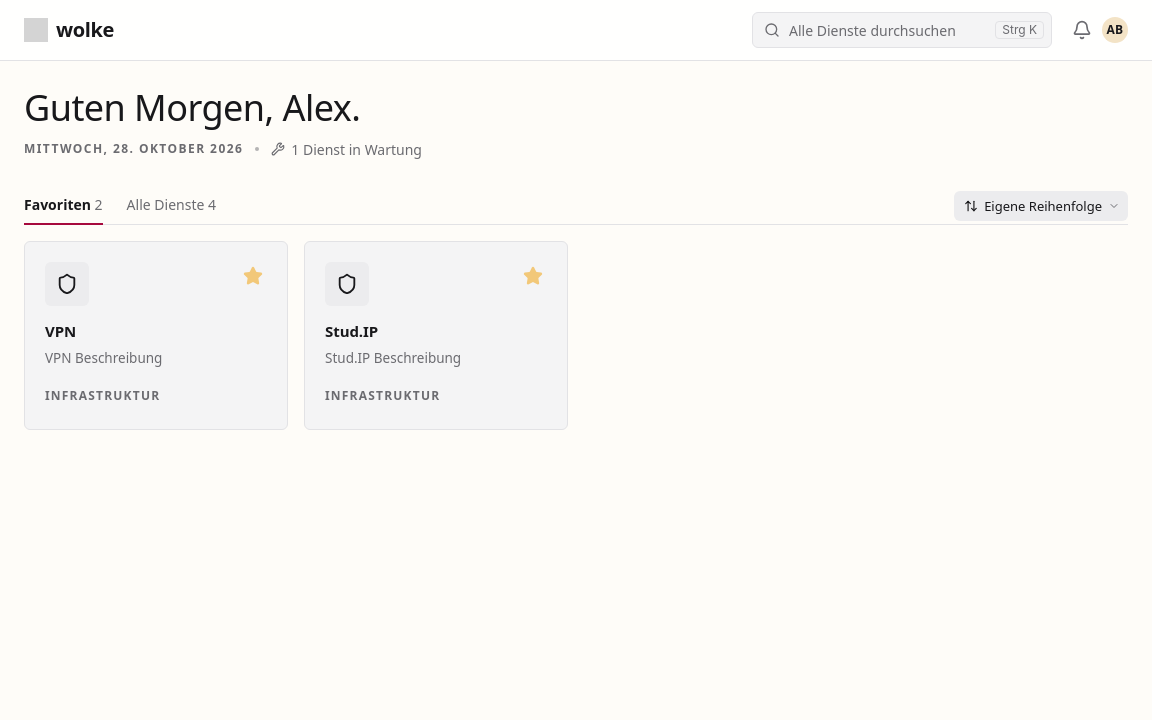
Test: Dashboard launcher tab row (issue #170) › hides the tab row while arranging and brings it back afterwards
Expected: the button "Favoriten 2" is shown, [24,195,103,225]
Click the button with aria-label "Reihenfolge:".
click(1041, 206)  # box [954,191,1128,221]
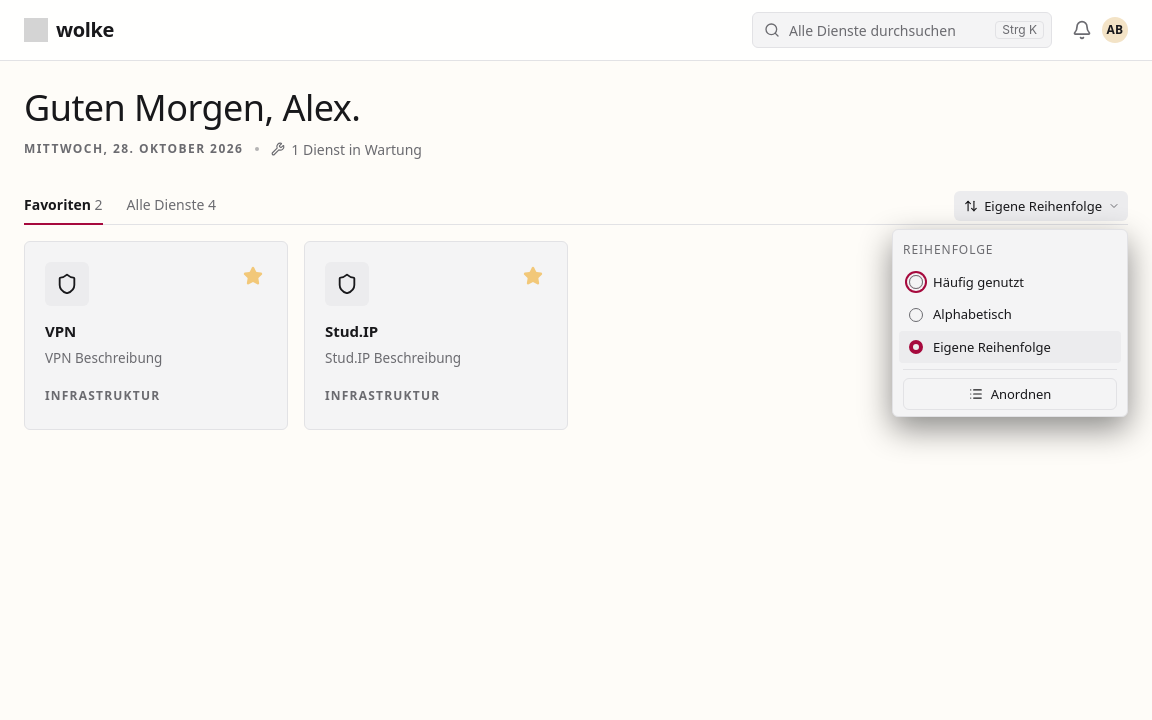
Click the button "Anordnen".
click(1010, 394)  # box [903,378,1117,410]
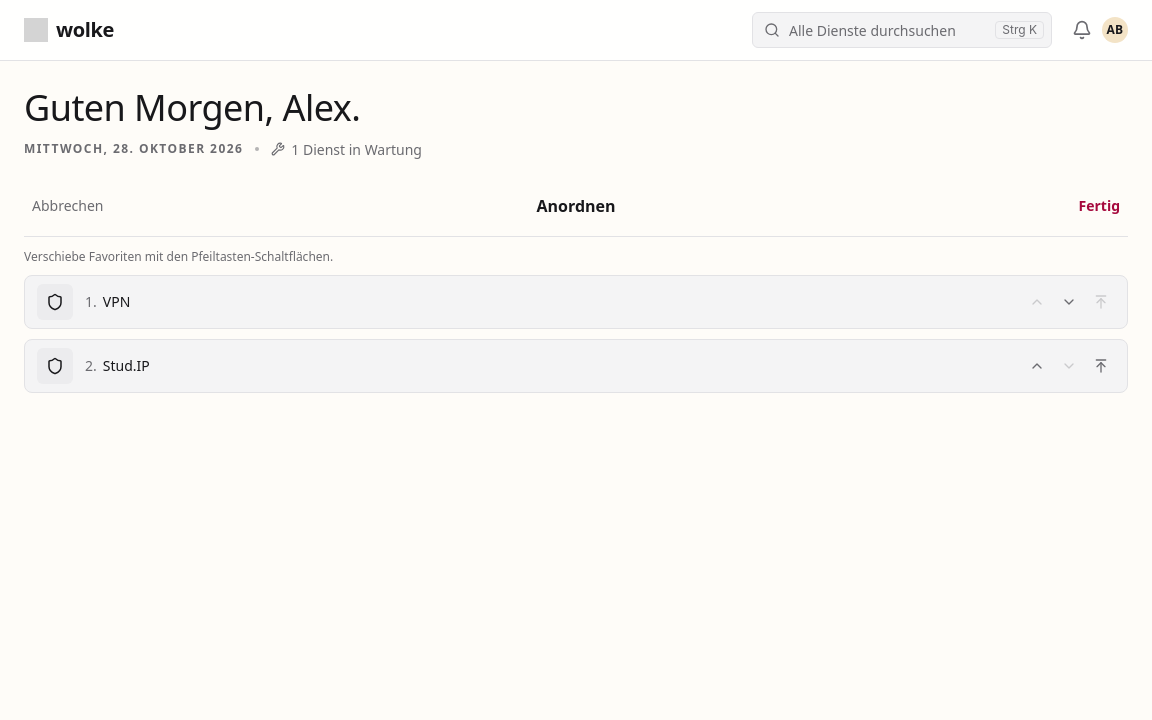
Now the navigation bar "Hauptnavigation" is gone
Click the button "Fertig".
click(1099, 206)  # box [1070,188,1128,224]
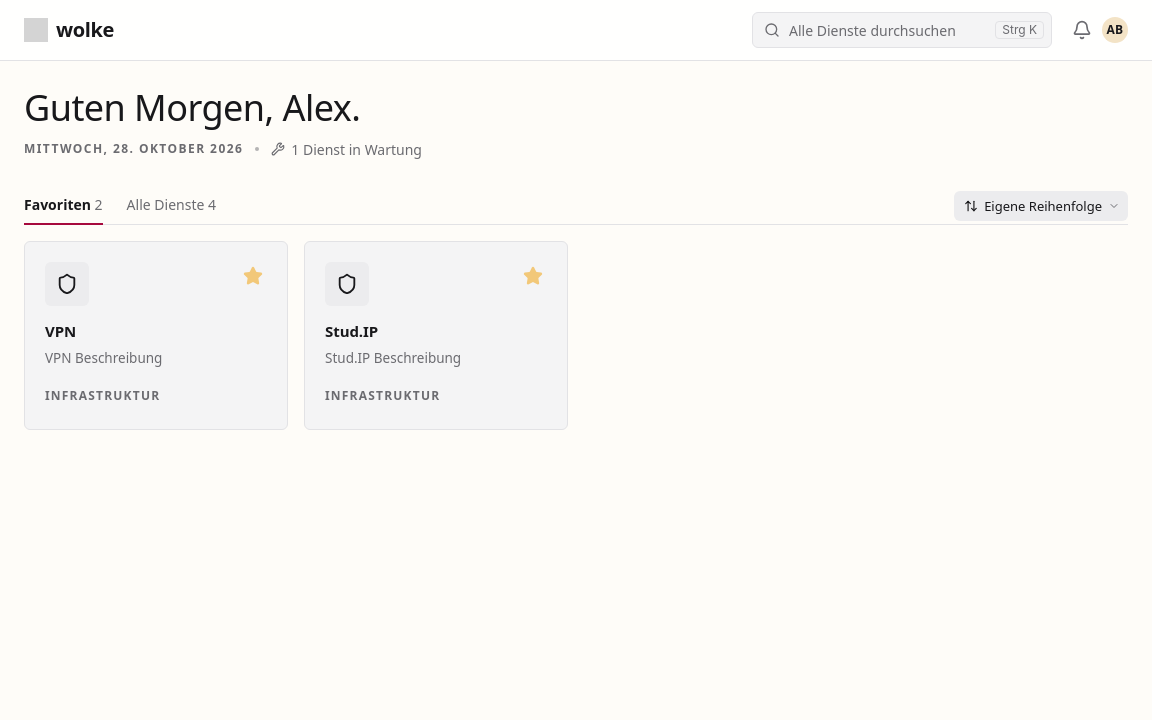
Now the button "Favoriten 2" is shown, box [24,195,103,225]
